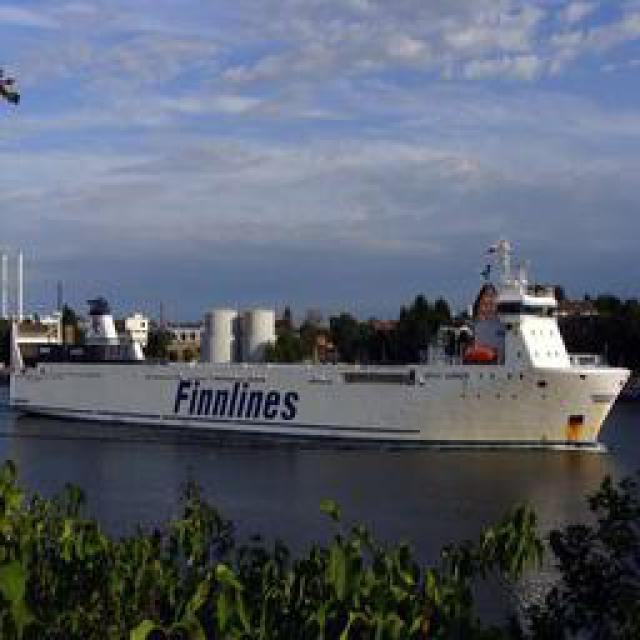Ship: (19, 268, 629, 443)
